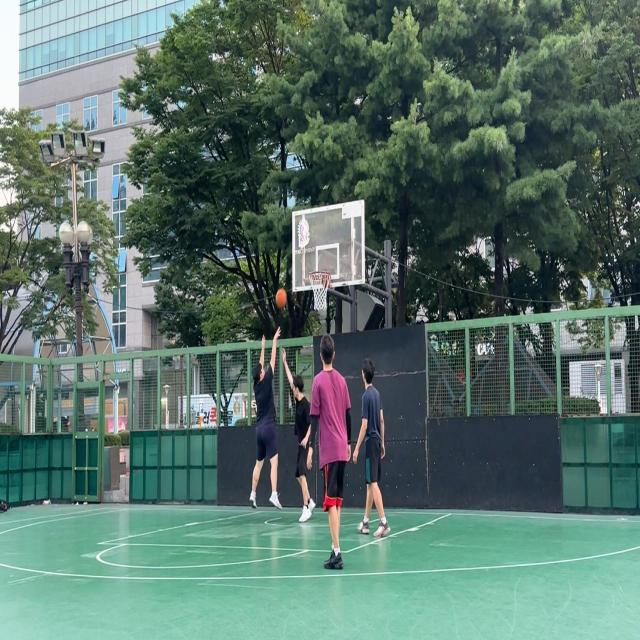basketball: (275, 287, 287, 309)
hoop: (308, 270, 330, 312)
